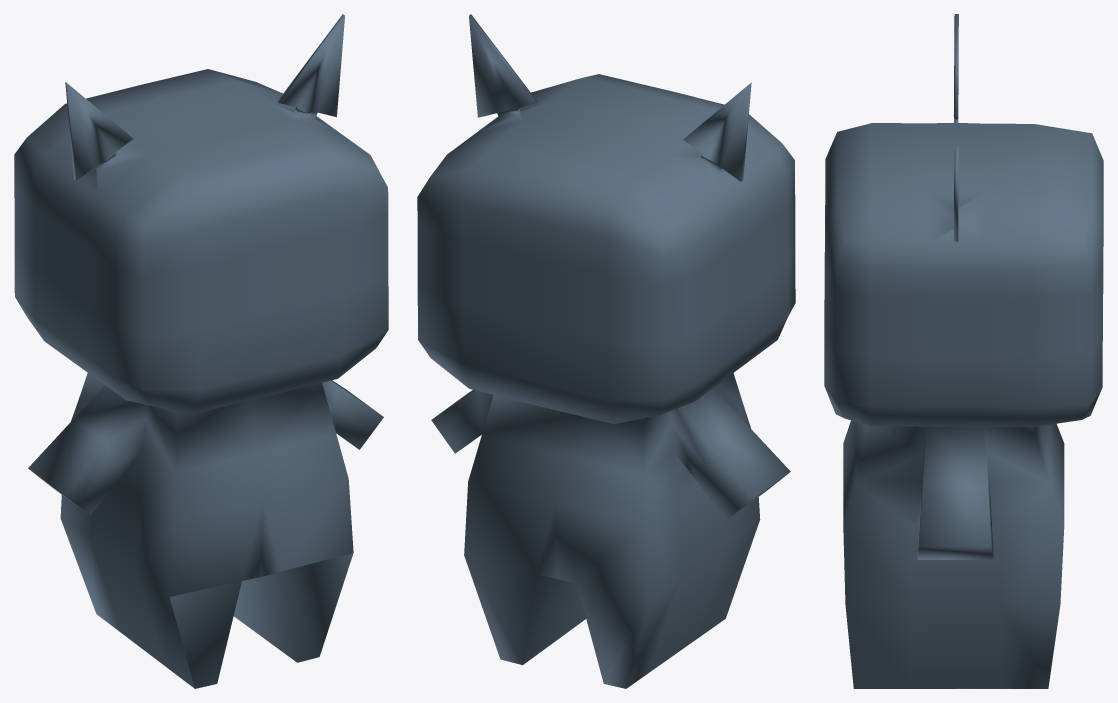
The model's file is deepblue.gltf.
3 views of the same model, side by side, from view 1: azimuth 30°, elevation 25°; view 2: azimuth 150°, elevation 25°; view 3: azimuth 270°, elevation 25° (orthographic). The views are drawn at different scales.
Parts seen in each view (by area): view 1: Object_2; view 2: Object_2; view 3: Object_2.
Part boxes in pixels (x1=…): Object_2: x1=14, y1=14, x2=388, y2=688; Object_2: x1=417, y1=14, x2=795, y2=688; Object_2: x1=824, y1=14, x2=1103, y2=688.
Bounding box in the file's own units: 25.78 × 45.29 × 19.76.
